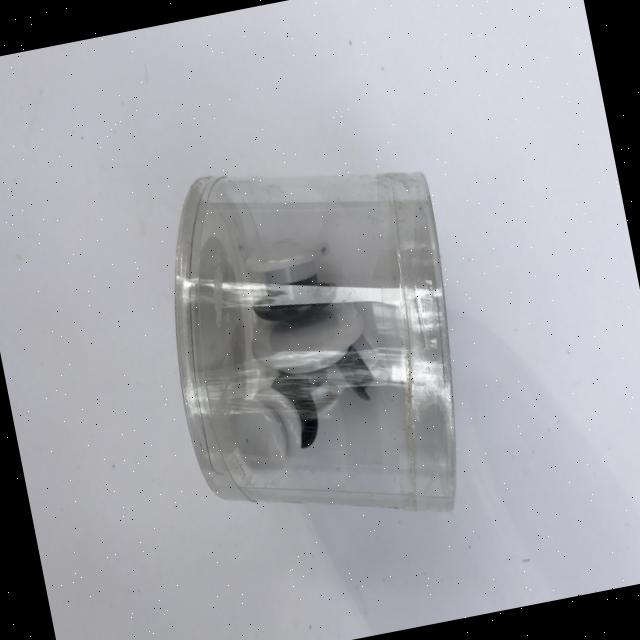plastic: (140, 133, 490, 558)
